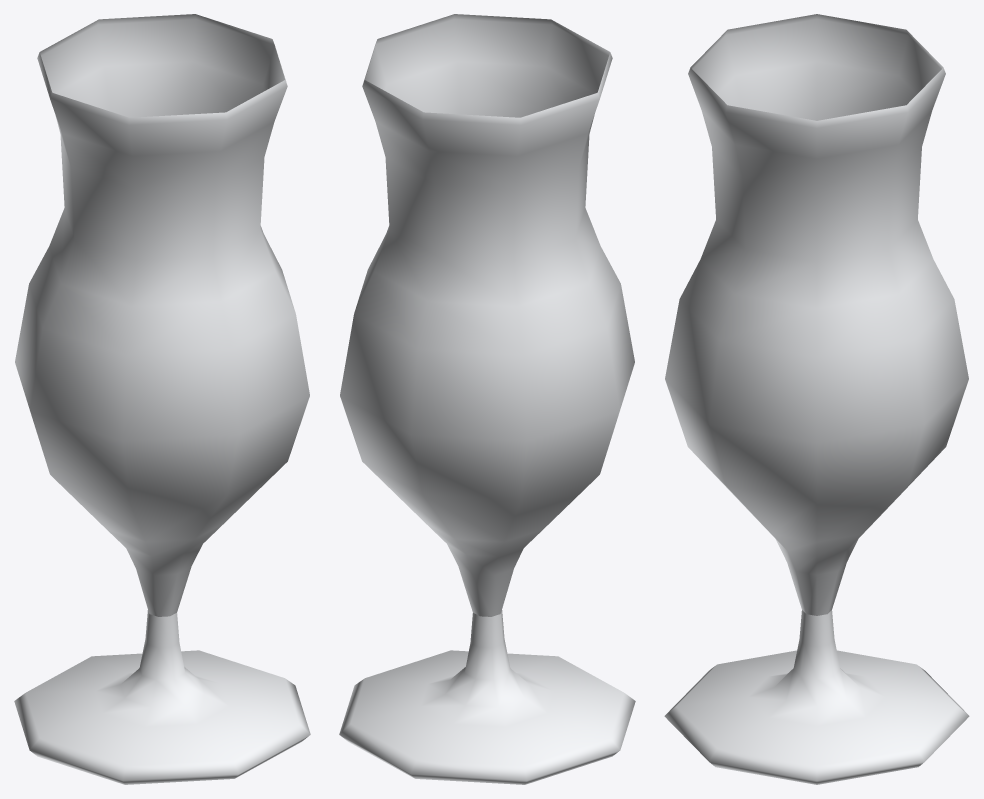
The model's file is Hurricane Glass.glb.
3 renders of one model, left to right at view 1: azimuth 30°, elevation 25°; view 2: azimuth 150°, elevation 25°; view 3: azimuth 270°, elevation 25°, orthographic.
Parts seen in each view (by area): view 1: sercups_hurricane_glass_Cylinder.110; view 2: sercups_hurricane_glass_Cylinder.110; view 3: sercups_hurricane_glass_Cylinder.110.
Part boxes in pixels (x1,y1,x2,y2): sercups_hurricane_glass_Cylinder.110: (14, 14, 310, 784); sercups_hurricane_glass_Cylinder.110: (339, 14, 635, 784); sercups_hurricane_glass_Cylinder.110: (664, 14, 969, 784).
Size of the model in its own units: 1.78 by 4.22 by 1.78.
1 material, 1 textured.
